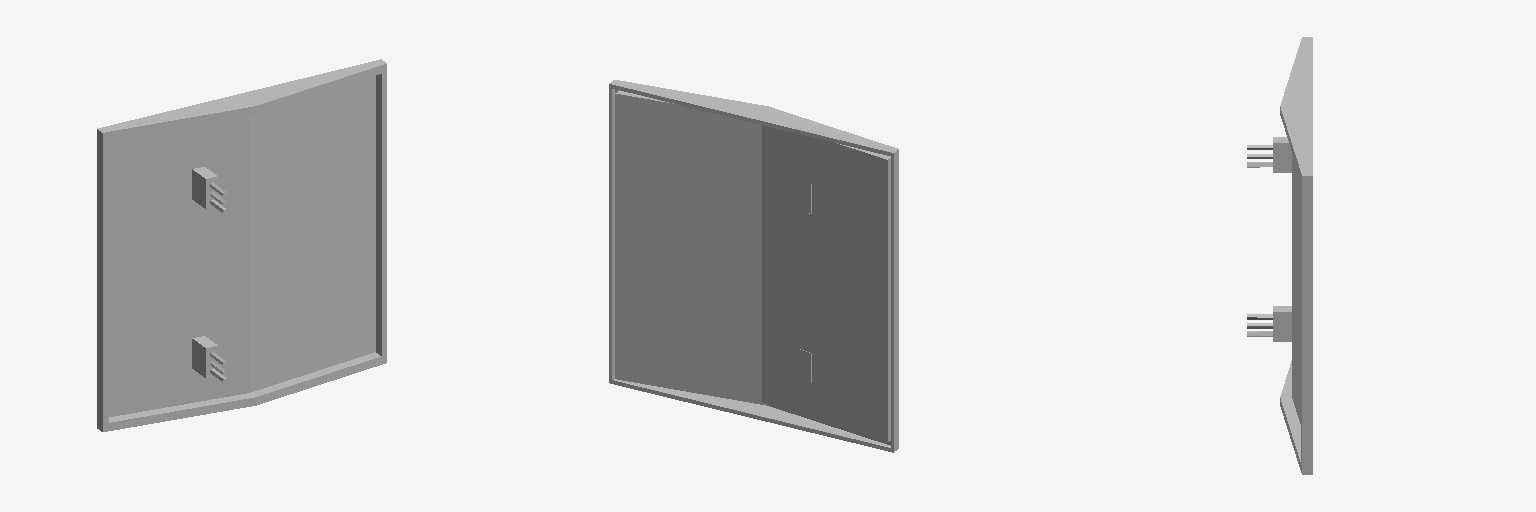
File: BuildingRoofB.obj
3 views of the same model, side by side, from view 1: azimuth 30°, elevation 25°; view 2: azimuth 150°, elevation 25°; view 3: azimuth 270°, elevation 25° (orthographic).
Visible parts, largest first — view 1: BuildingRoofB; view 2: BuildingRoofB; view 3: BuildingRoofB.
Part boxes in pixels (x1,y1,x2,y2): BuildingRoofB: (97, 59, 386, 431); BuildingRoofB: (609, 80, 898, 452); BuildingRoofB: (1247, 37, 1312, 474).
Size of the model in its own units: 1400 by 1407 by 285.